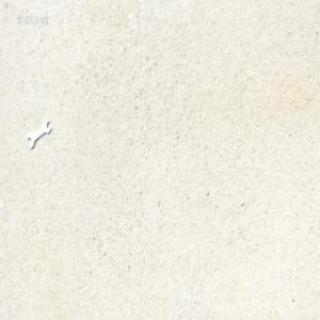Wrenchtrack_idkeyframe: (29, 115, 54, 148)
